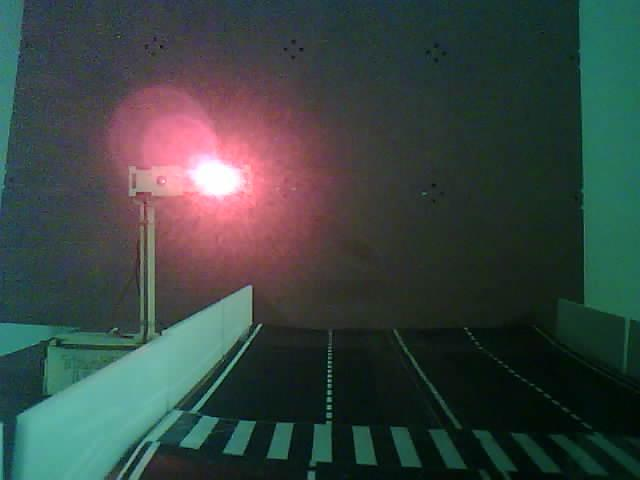crosswalk: (92, 384, 640, 480)
red: (70, 63, 324, 366)
